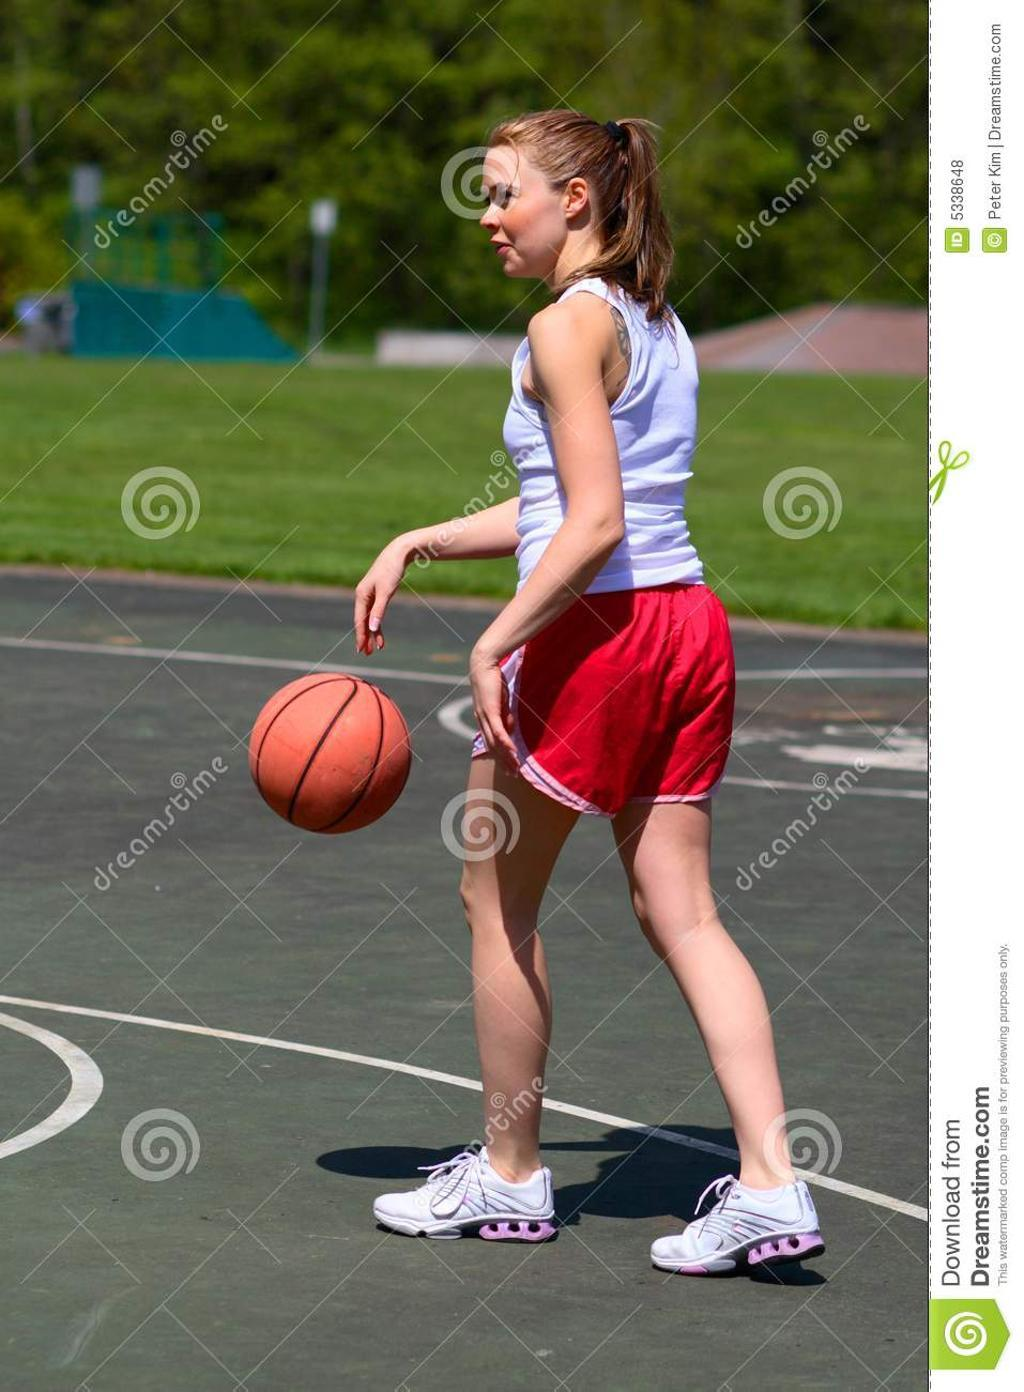face: (482, 140, 569, 279)
